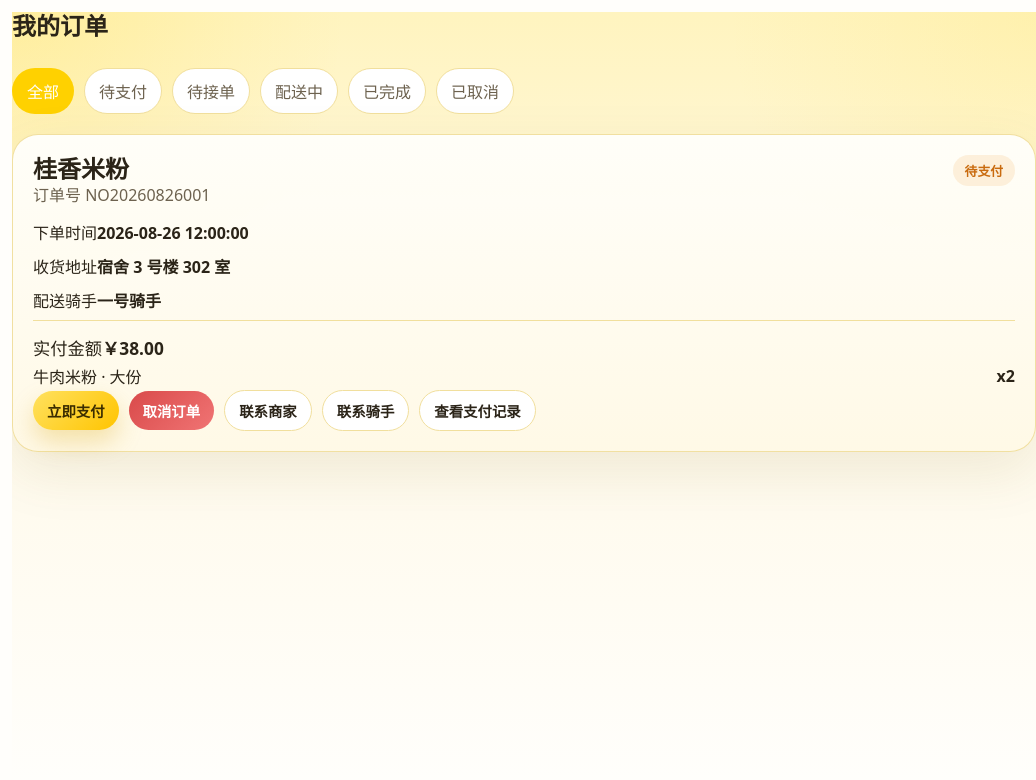
Test: Orders page › loads and displays payment records
Expected: the text "订单号 NO20260826001" is shown, [33,182,210,206]
Click the button "查看支付记录" at x=478, y=411, box [419,390,536,431]
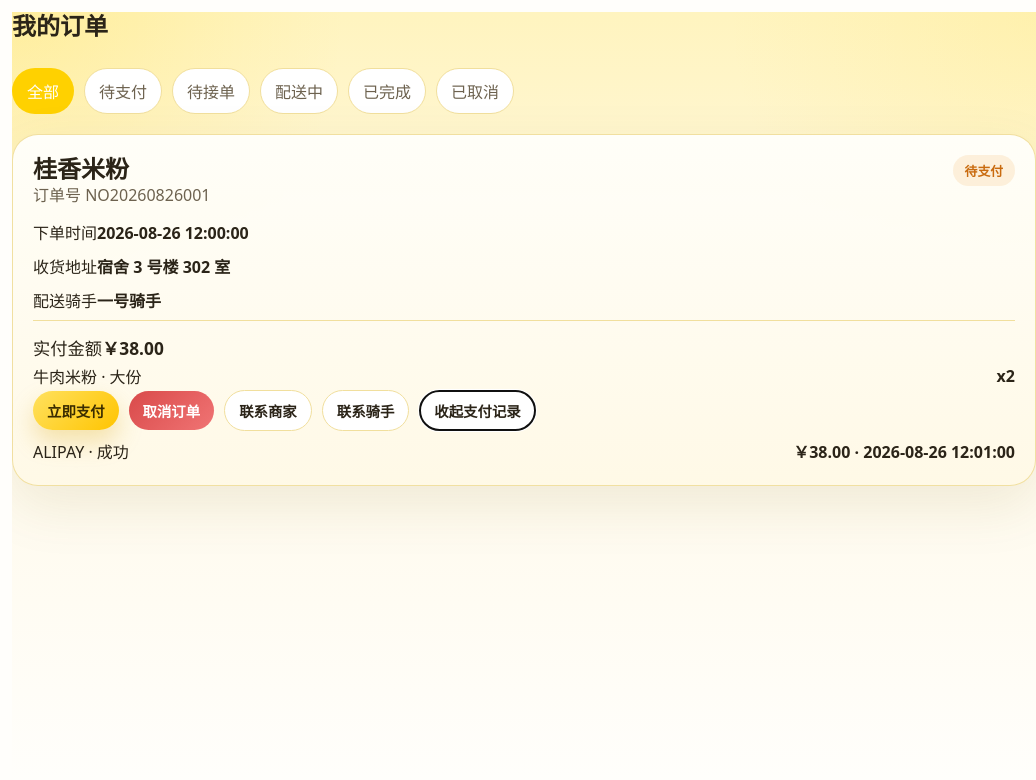
Expected: the text "ALIPAY · 成功" is shown, [33,439,129,463]
Expected: the text "￥38.00 · 2026-08-26 12:01:00" is shown, [793,439,1015,463]
